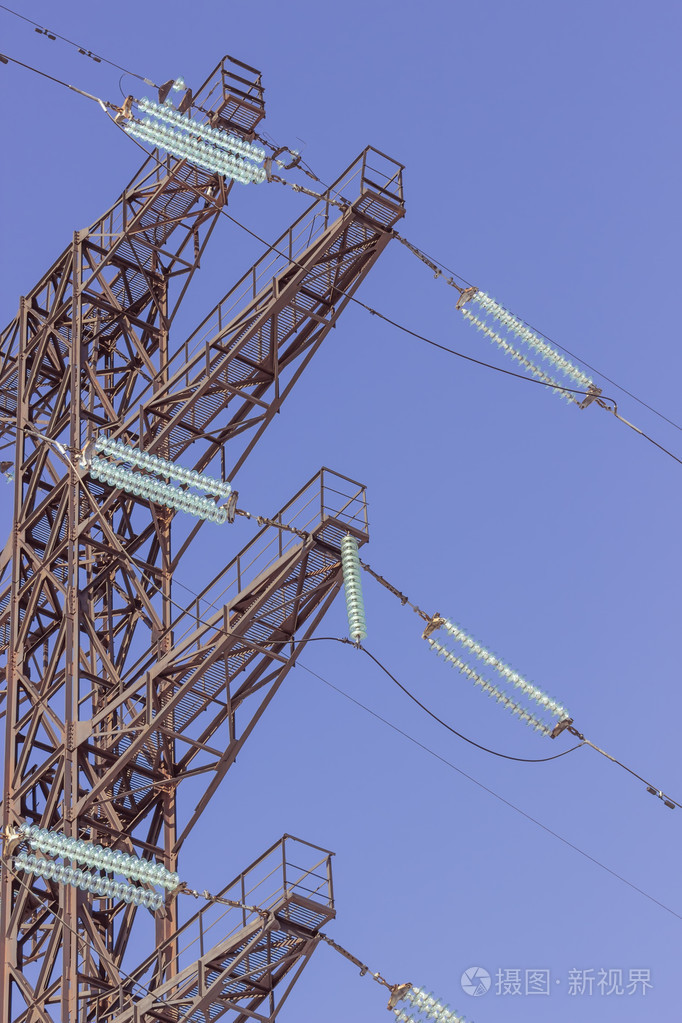insulator: (463, 291, 597, 403), (12, 829, 178, 910), (122, 97, 266, 185), (84, 438, 233, 523), (342, 537, 371, 637), (393, 986, 468, 1023)
